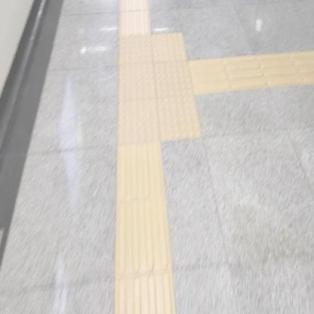Podoctatil: (105, 18, 220, 171), (114, 147, 180, 313), (196, 51, 314, 96), (116, 0, 153, 32)
